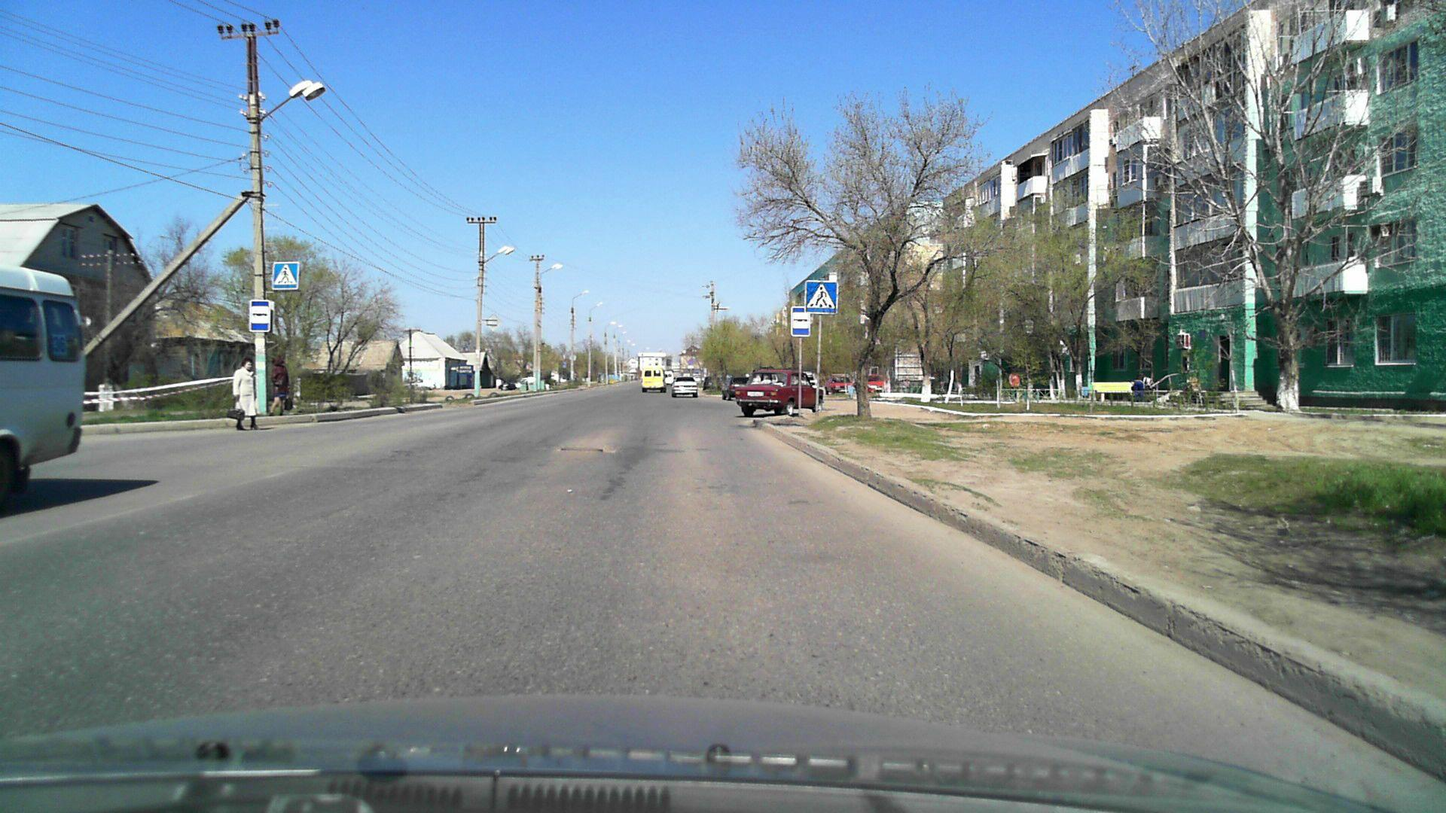road_sign: (805, 281, 837, 315), (271, 261, 300, 290), (248, 299, 271, 331), (790, 306, 810, 337)
